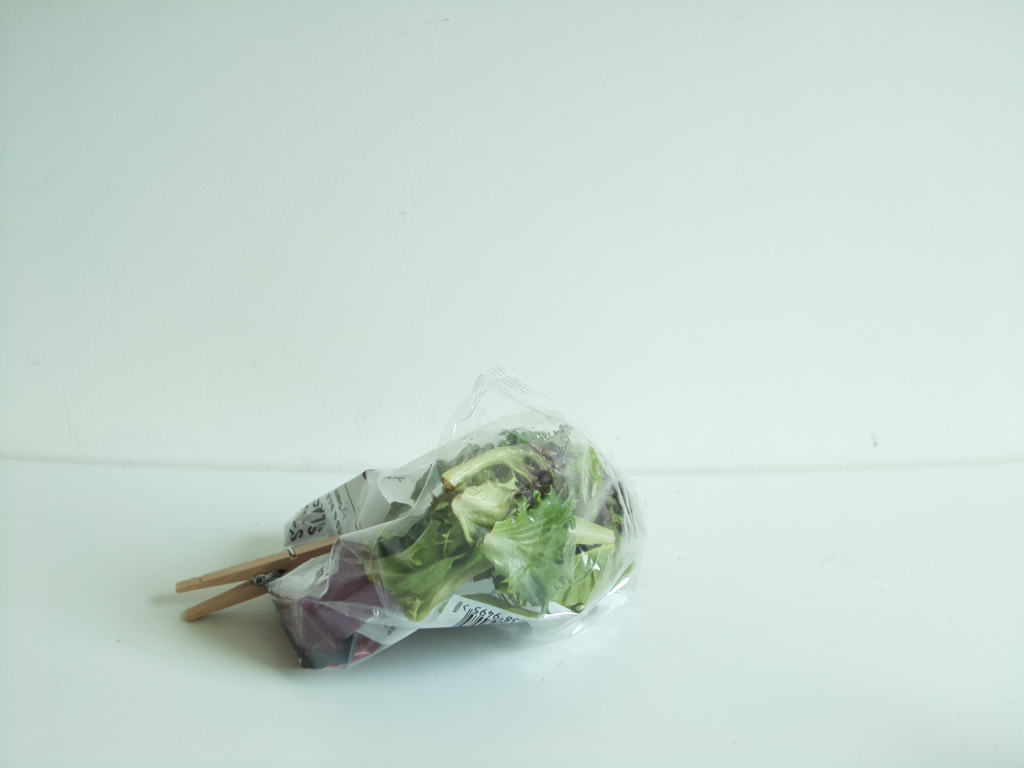salad: (275, 419, 645, 670)
